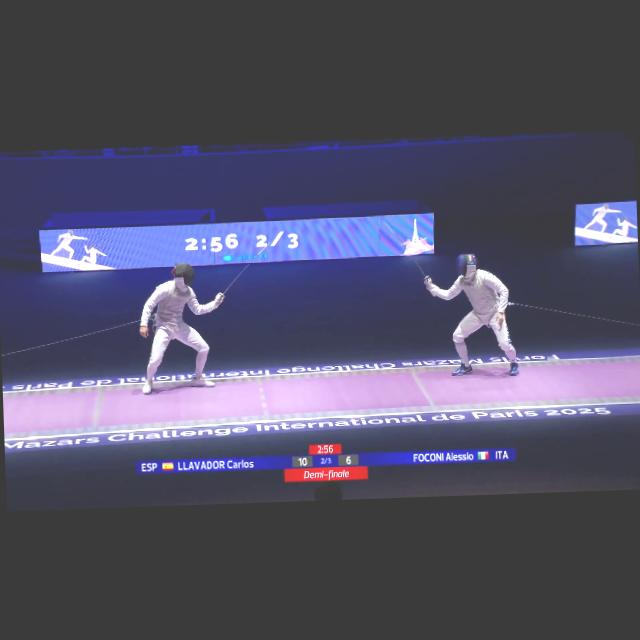blade: (382, 218, 434, 288), (214, 242, 276, 299)
